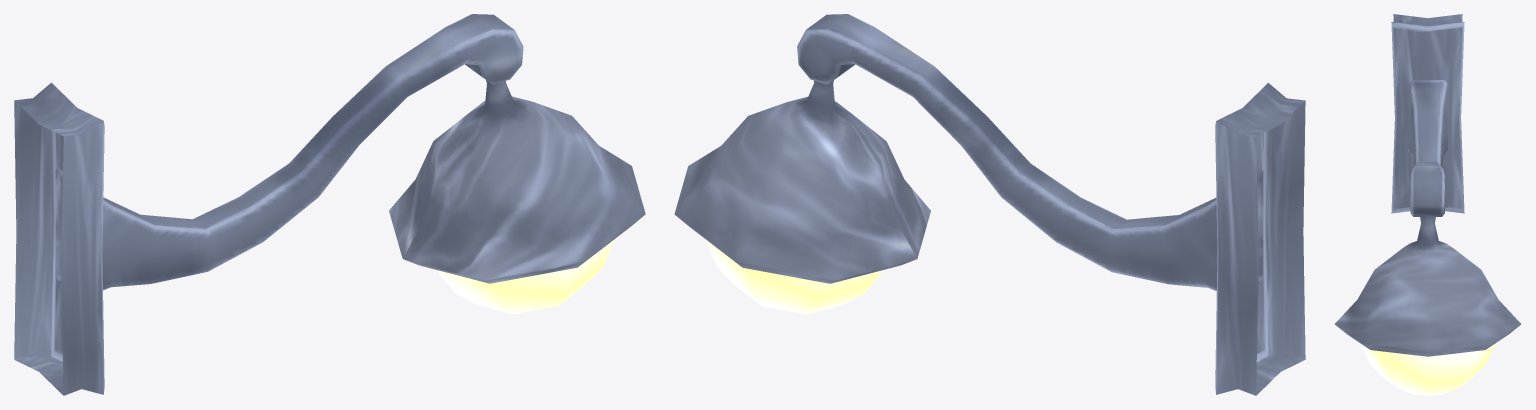
The model's file is Modern_Lamp_Hanging.glb.
3 views of the same model, side by side, from view 1: azimuth 30°, elevation 25°; view 2: azimuth 150°, elevation 25°; view 3: azimuth 270°, elevation 25° (orthographic). The views are drawn at different scales.
Visible parts, largest first — view 1: ModernHangingLamp.001; view 2: ModernHangingLamp.001; view 3: ModernHangingLamp.001.
Part boxes in pixels (x1,y1,x2,y2): ModernHangingLamp.001: [14, 14, 645, 395]; ModernHangingLamp.001: [674, 14, 1305, 395]; ModernHangingLamp.001: [1334, 14, 1521, 395].
Size of the model in its own units: 1.02 by 0.5111 by 0.4.
Materials: 2 (1 with a texture image).
